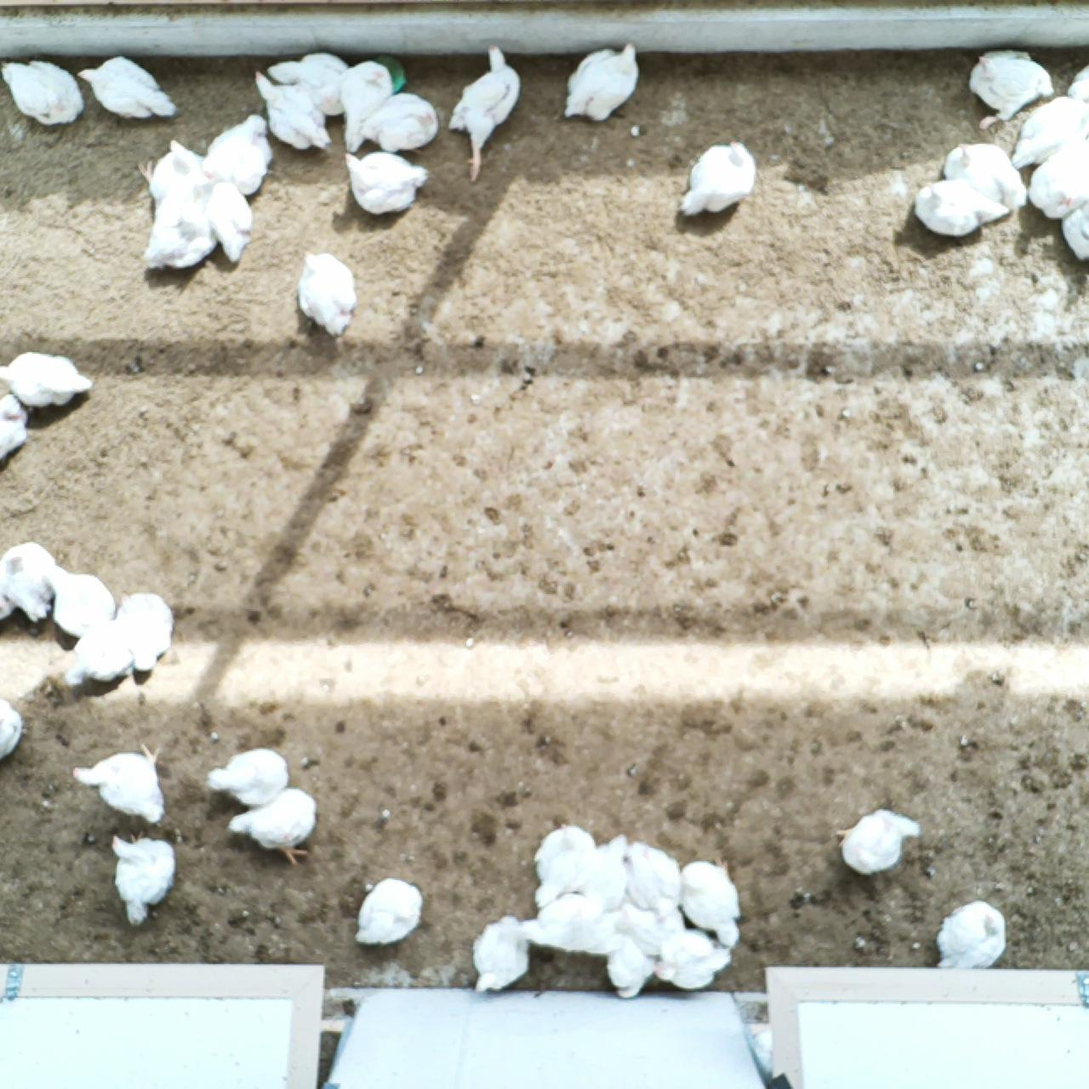chicken: (446, 41, 526, 188), (68, 741, 174, 824), (227, 789, 325, 870), (965, 45, 1058, 130), (516, 885, 621, 959), (676, 853, 751, 950), (107, 826, 178, 928), (250, 68, 335, 152), (78, 56, 182, 124), (559, 39, 643, 123), (674, 139, 756, 222), (266, 44, 355, 120), (143, 179, 208, 280), (529, 819, 599, 912), (1005, 92, 1089, 168), (833, 805, 924, 875), (294, 245, 361, 340), (941, 138, 1031, 208), (205, 742, 293, 812), (333, 56, 396, 153), (910, 175, 1008, 237), (342, 150, 432, 217), (41, 559, 120, 635), (1, 58, 85, 129), (0, 348, 93, 411), (353, 875, 430, 951), (206, 110, 276, 193), (931, 899, 1009, 972), (1027, 135, 1089, 225), (356, 87, 441, 152), (470, 910, 534, 995), (652, 927, 733, 993), (622, 837, 682, 925), (114, 589, 176, 674), (61, 619, 132, 693), (205, 175, 257, 266), (0, 535, 55, 621), (139, 137, 219, 194), (615, 901, 690, 959), (586, 828, 633, 911), (609, 934, 658, 1002), (1054, 191, 1089, 265), (0, 392, 31, 463), (0, 696, 26, 762)
